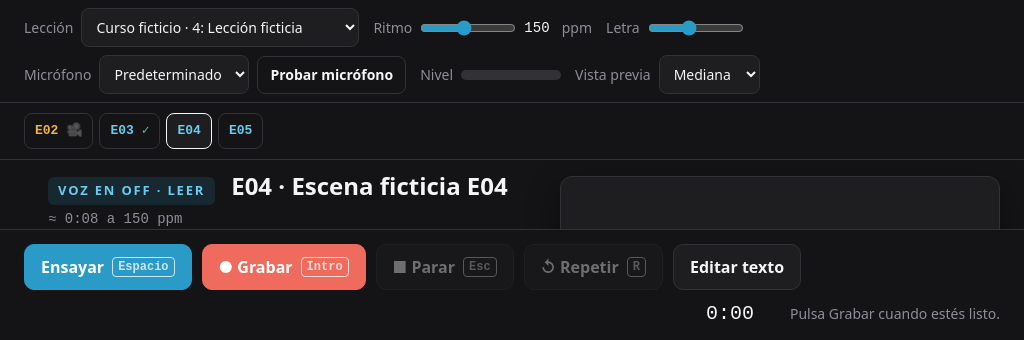
Test: Teleprompter: micrófono sin fugas ni carreras › Parar con el permiso pendiente vuelve al estado de la escena y no graba al llegar el permiso
The image size is (1024, 340).
Click the button "● Grabar Intro" at [284, 266], box x1=202 y1=244 x2=366 y2=290
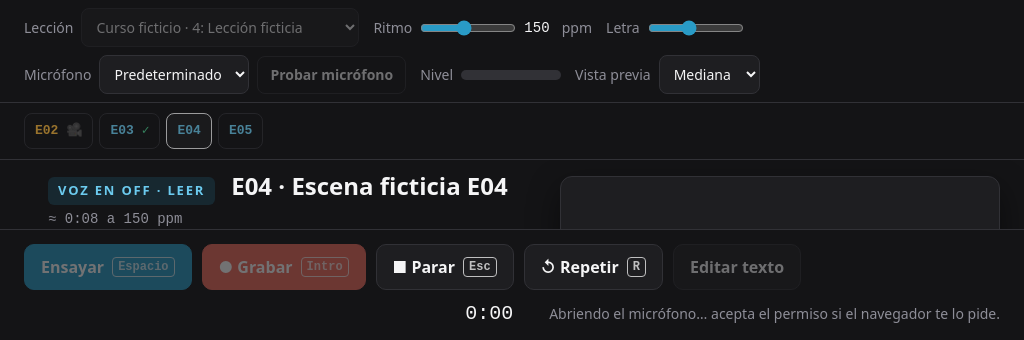
Click the button "■ Parar Esc" at [445, 266], box x1=376 y1=244 x2=514 y2=290
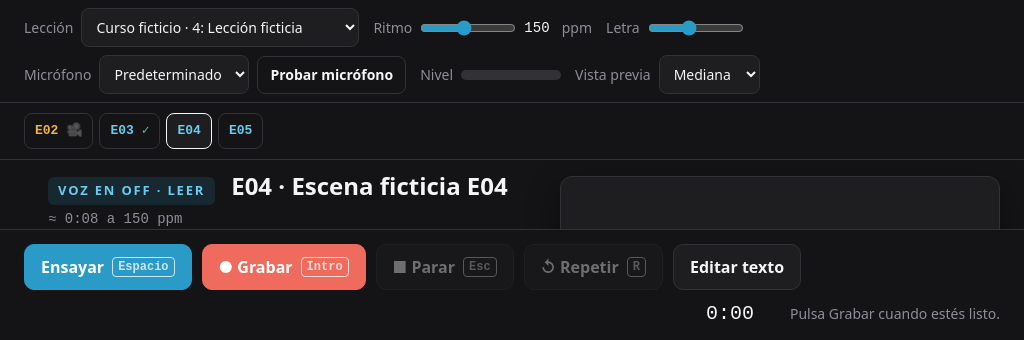
Expected: the message reads "Pulsa Grabar cuando estés listo.", x1=790 y1=304 x2=1000 y2=322
Expected: the button "● Grabar Intro" is enabled, x1=202 y1=244 x2=366 y2=290
